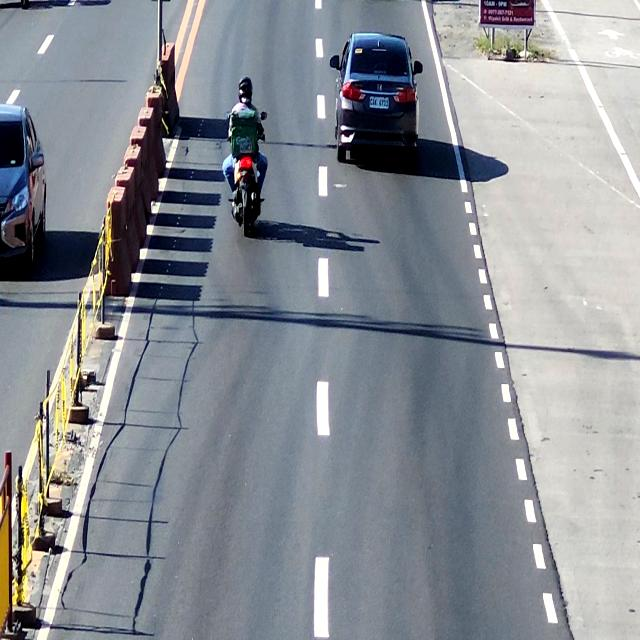Car: (328, 28, 423, 167)
License-Plate: (363, 94, 395, 114)
Motorcycle: (223, 87, 267, 241)
